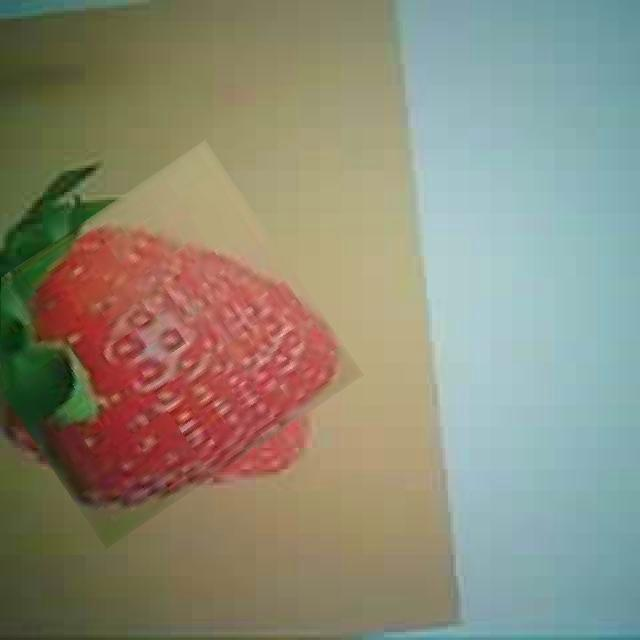strawberry: (0, 171, 338, 518)
